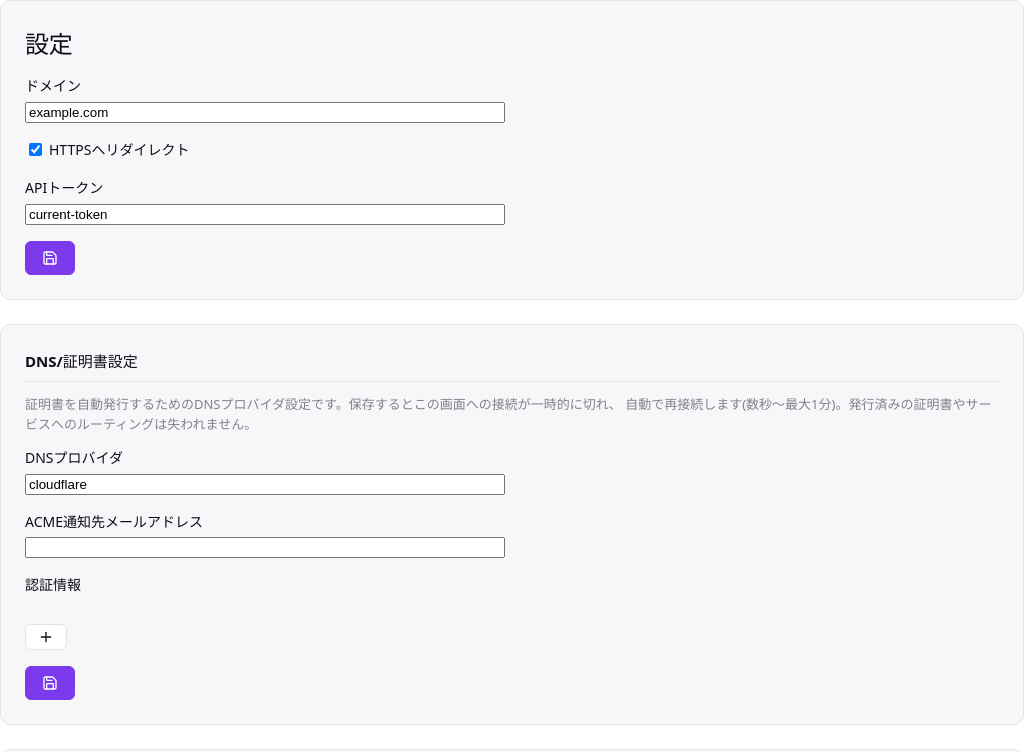
Test: SettingsPage › ドメインを変更して保存すると、新しいURLへ移動する案内を表示し通常の保存完了メッセージは出さない
The width and height of the screenshot is (1024, 752).
Replace the text in the field labelled "ドメイン" with "newdomain.com" at {"x": 265, "y": 112}, box [25,102,505,123]
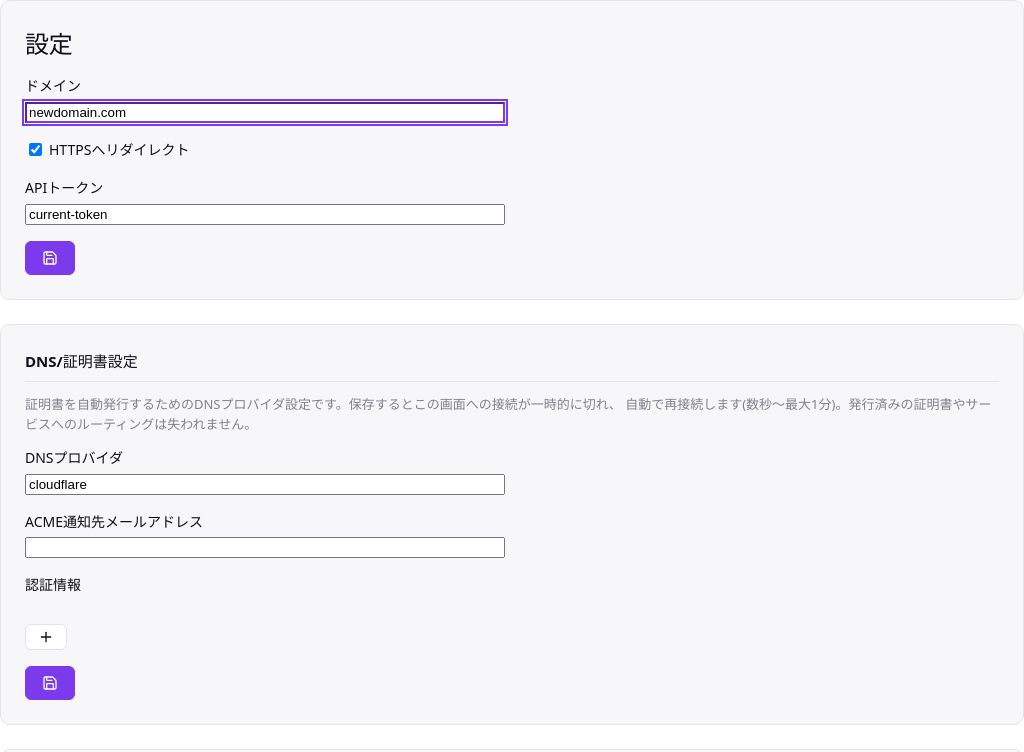
Click the button named "基本設定を保存" at {"x": 50, "y": 258}, box [25,241,75,275]
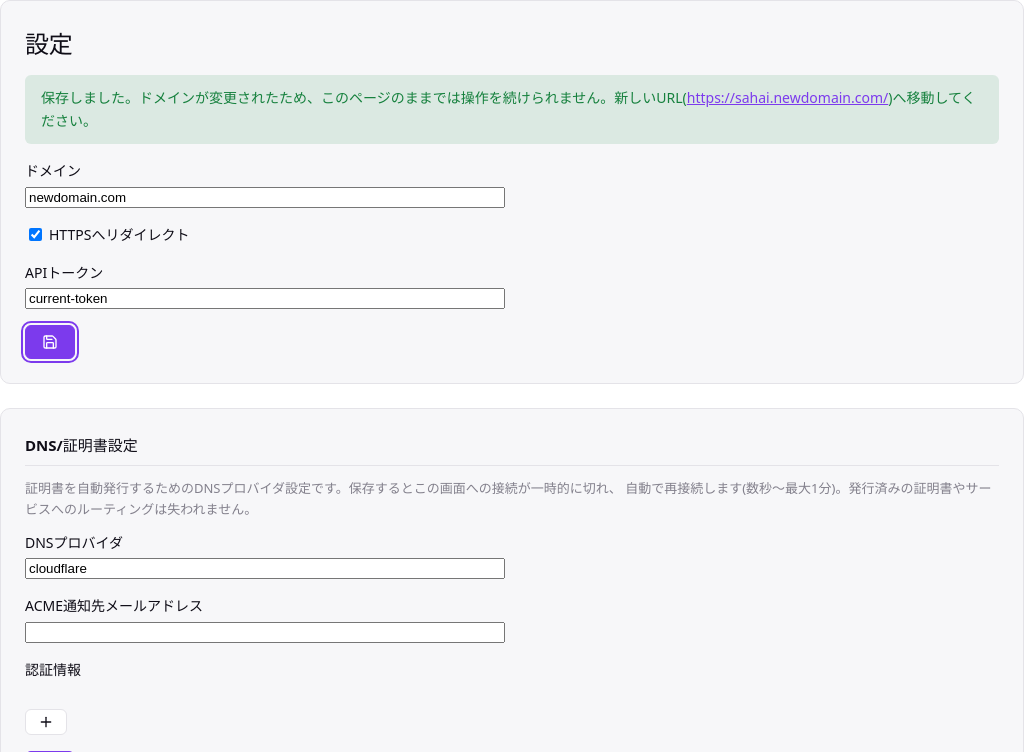
Check: the text "新しいURL" is shown, box [41,88,687,107]
